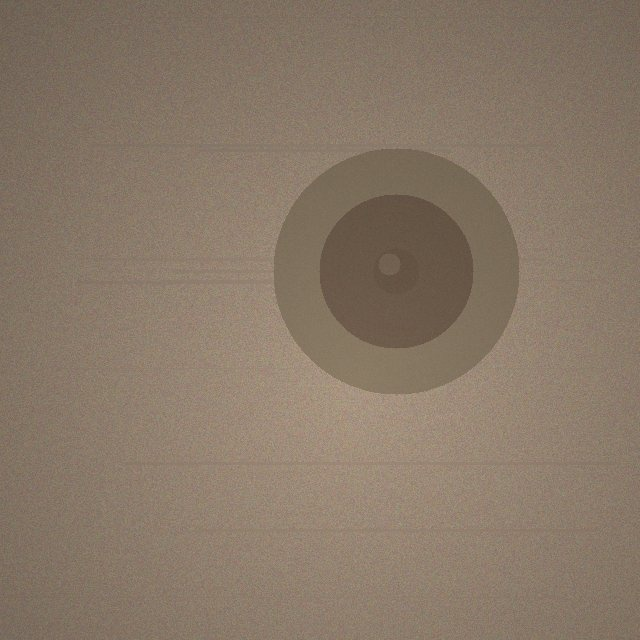good: (273, 148, 519, 394)
